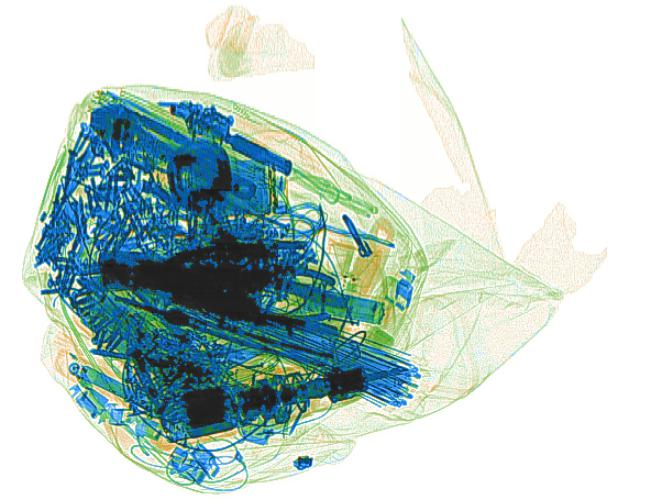battery: (299, 282, 384, 324)
